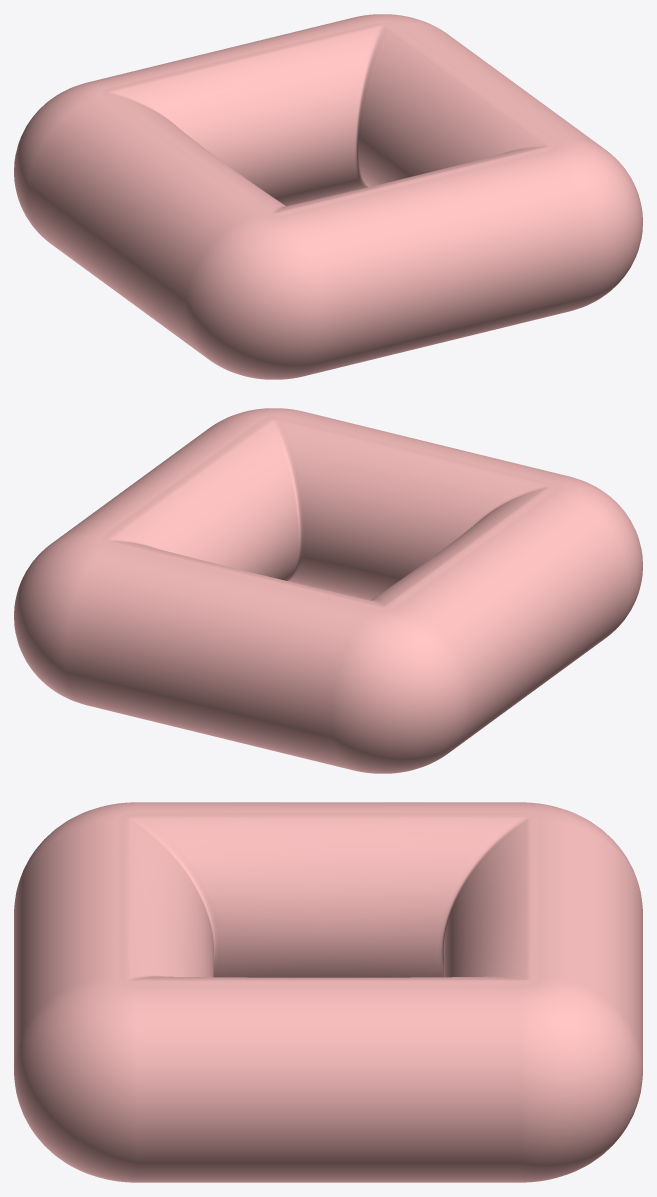
The model's file is rahmen.glb.
3 views of the same model, one above another, from view 1: azimuth 30°, elevation 25°; view 2: azimuth 150°, elevation 25°; view 3: azimuth 270°, elevation 25° (orthographic). The views are drawn at different scales.
Bounding box in the file's own units: 0.06 × 0.0201 × 0.061.
